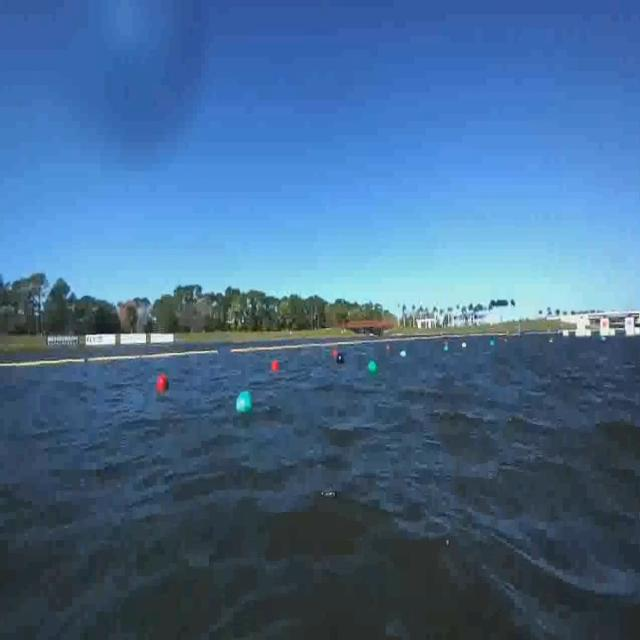black-buoy: (338, 355, 346, 365)
green-buoy: (234, 393, 251, 416), (368, 359, 376, 373)
red-buoy: (156, 372, 170, 392), (272, 359, 280, 372)
